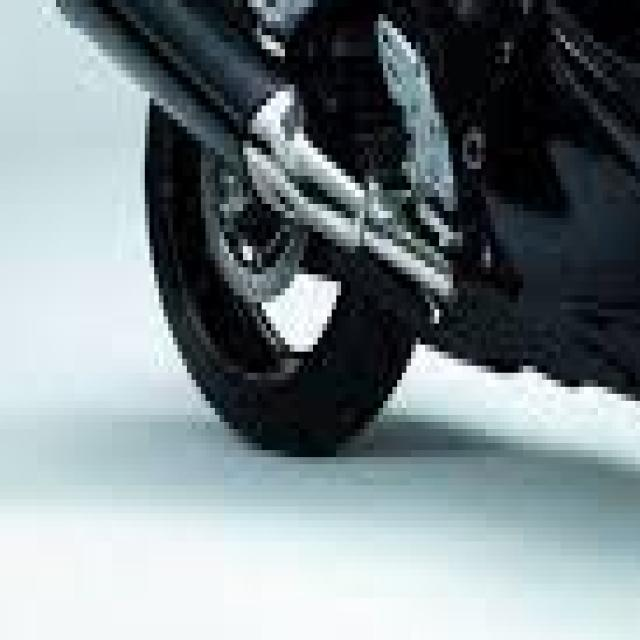bike: (74, 0, 640, 605)
